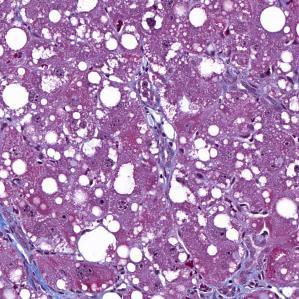fibrosis: (0, 211, 55, 289)
